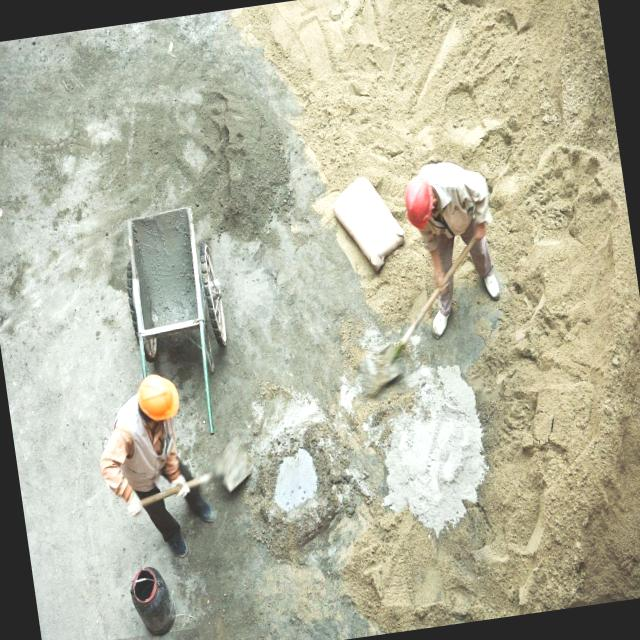helmet: (129, 367, 184, 437), (397, 168, 440, 234)
no-vest: (436, 160, 498, 249), (109, 418, 157, 503)
